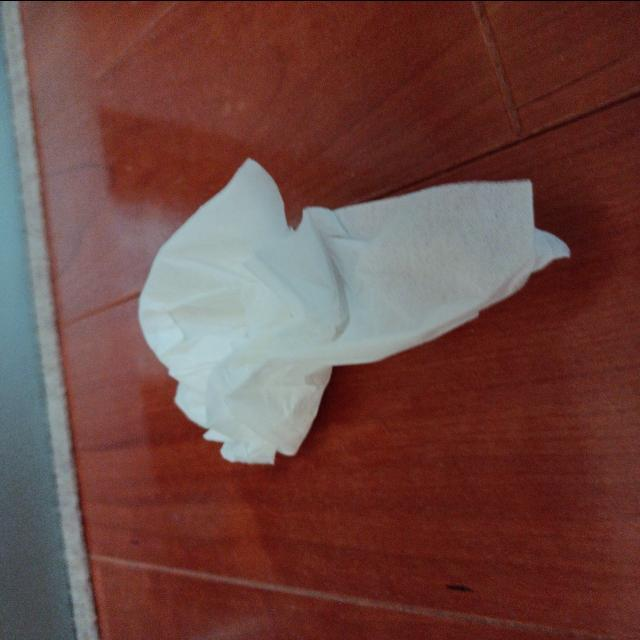Paper: (139, 164, 581, 455)
